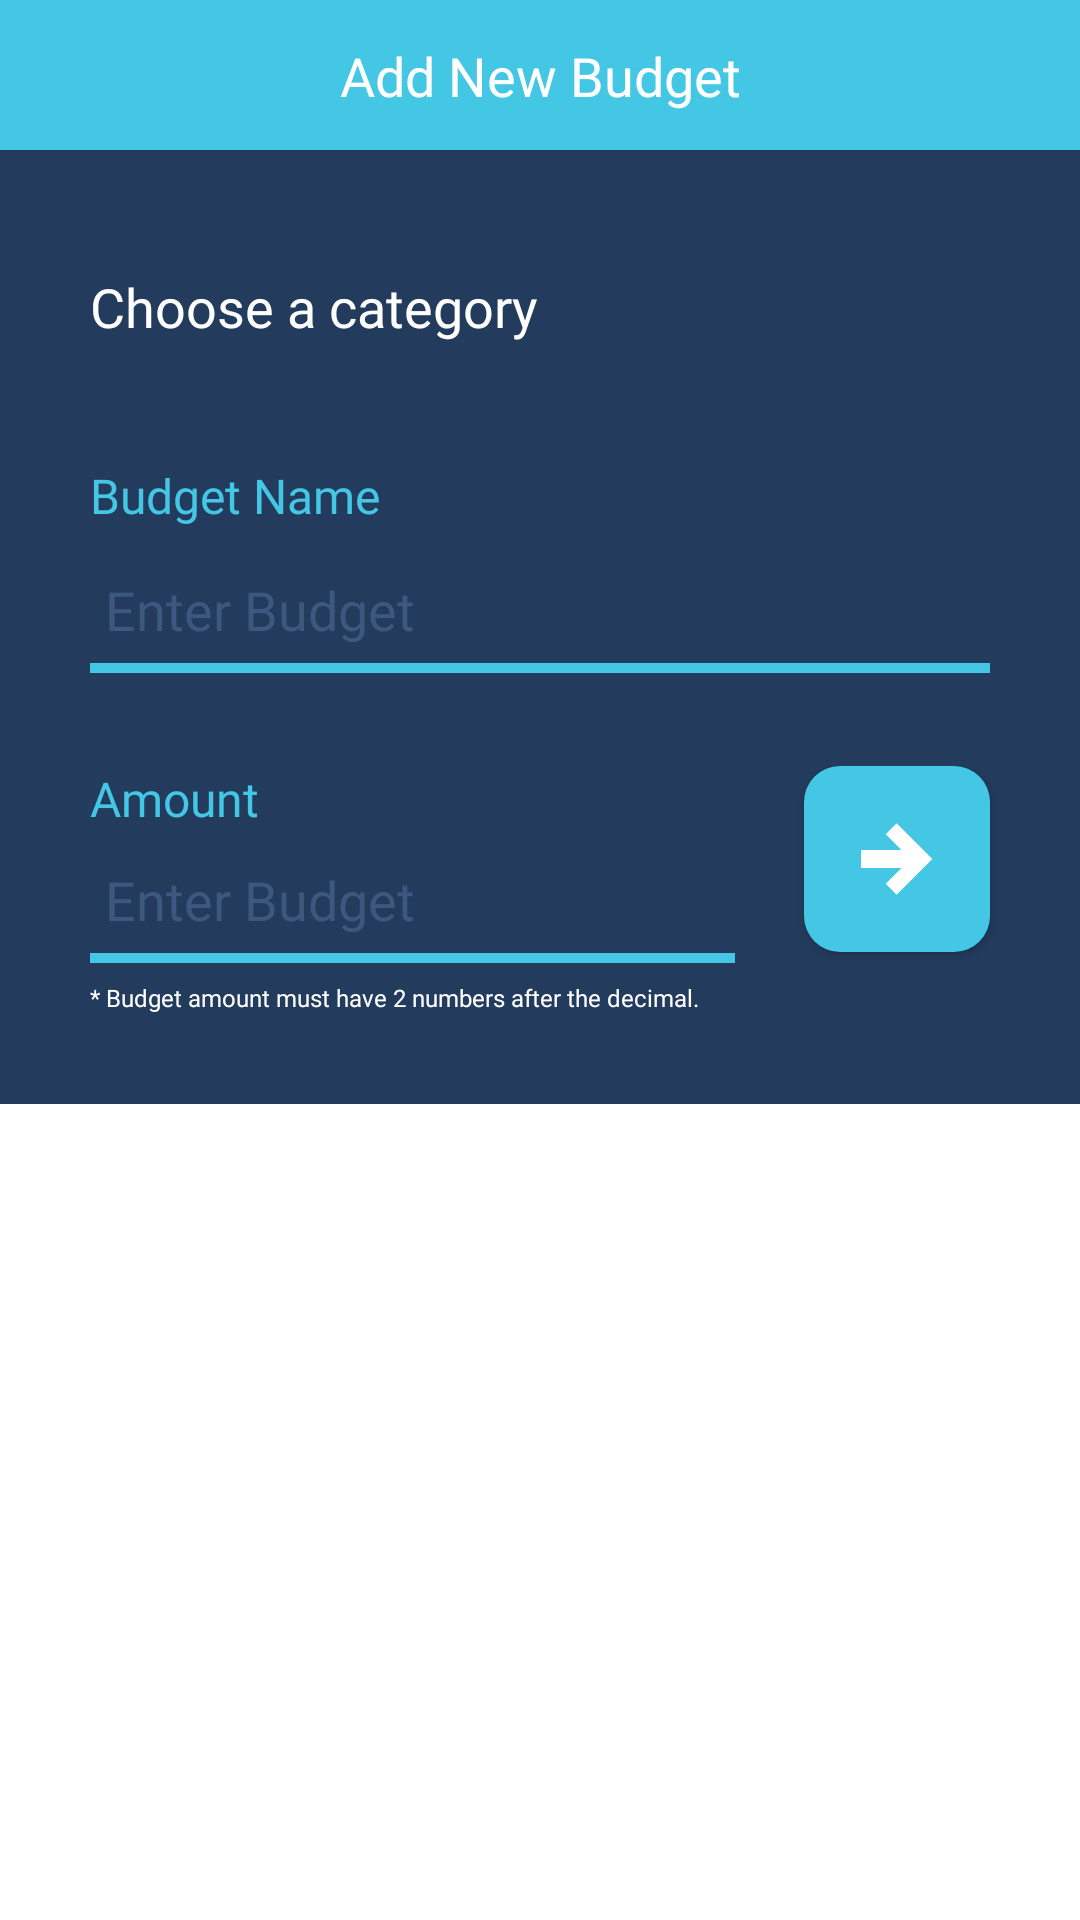

Where icons sit on this 1080px x 1920px app screen, as (x1, y1, x2, y2):
arrow right thick: (804, 766, 990, 952)
